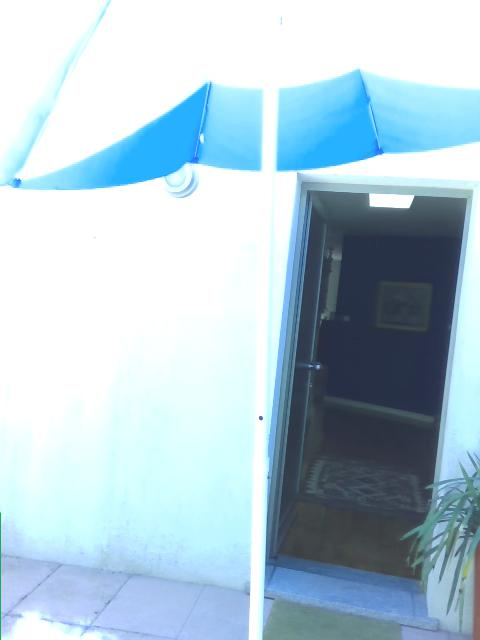open_door: (261, 170, 479, 625)
